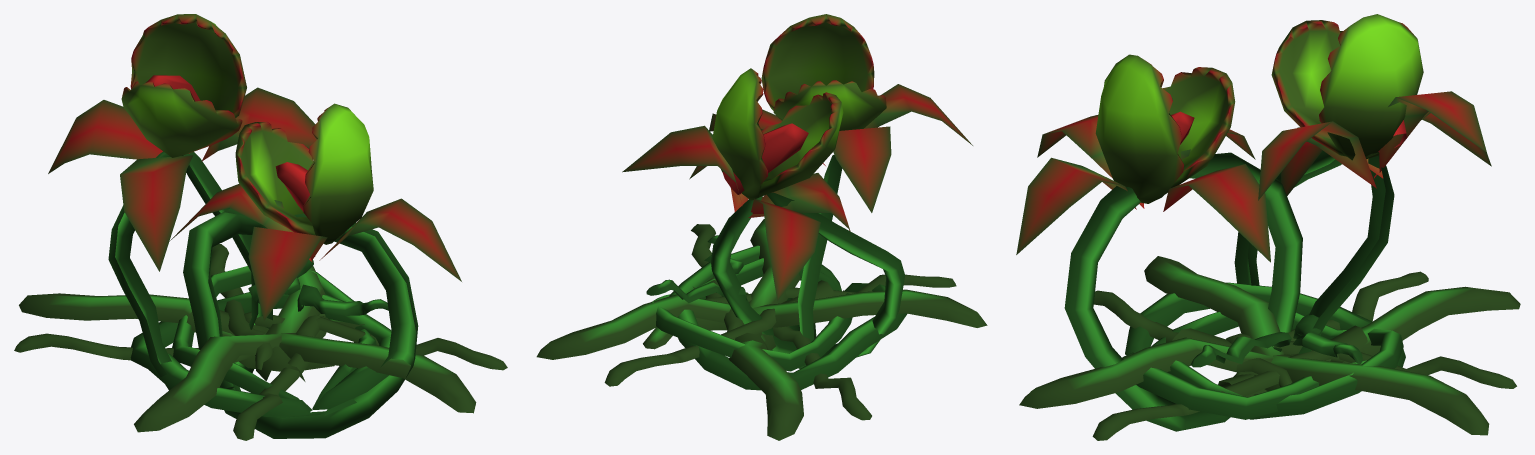
Rendered from Red_Up_2.fbx.
The picture shows the model from 3 angles, left to right: view 1: azimuth 30°, elevation 25°; view 2: azimuth 150°, elevation 25°; view 3: azimuth 270°, elevation 25°; orthographic projection. The views are drawn at different scales.
Parts seen in each view (by area): view 1: pCube155; view 2: pCube155; view 3: pCube155.
Part boxes in pixels (box(x1,y1,x2,y2)): pCube155: box(14, 14, 507, 440); pCube155: box(536, 14, 987, 440); pCube155: box(1016, 14, 1520, 440).
Bounding box in the file's own units: 593 × 623 × 711.
